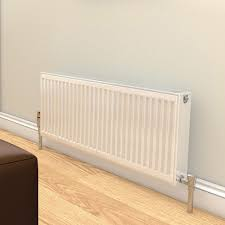Radiator: (35, 71, 198, 196)
